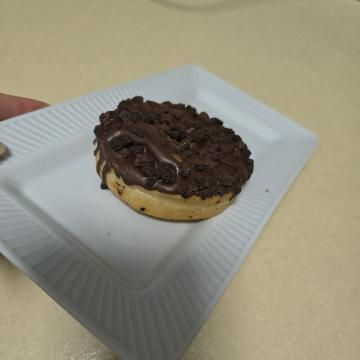doughnut: (88, 99, 234, 280)
